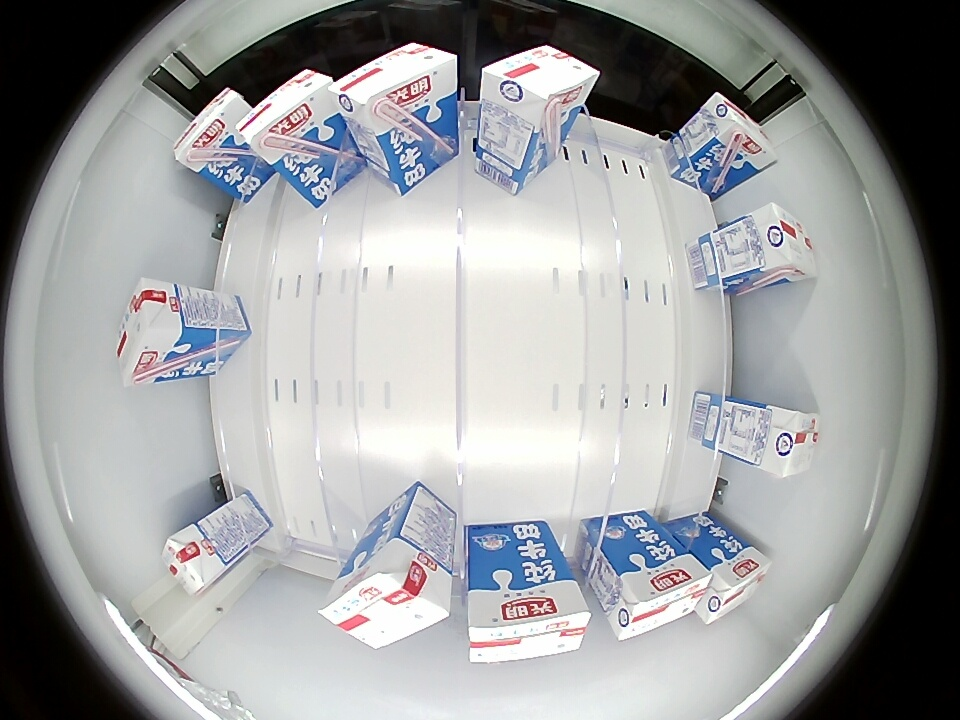niunai: (319, 560, 448, 651), (332, 43, 459, 134), (468, 575, 591, 664), (233, 67, 336, 162), (606, 552, 713, 642), (483, 44, 598, 125), (116, 278, 190, 387), (698, 93, 777, 176), (173, 86, 246, 172), (700, 544, 772, 625), (749, 201, 817, 283), (757, 406, 821, 478), (162, 522, 221, 594)
